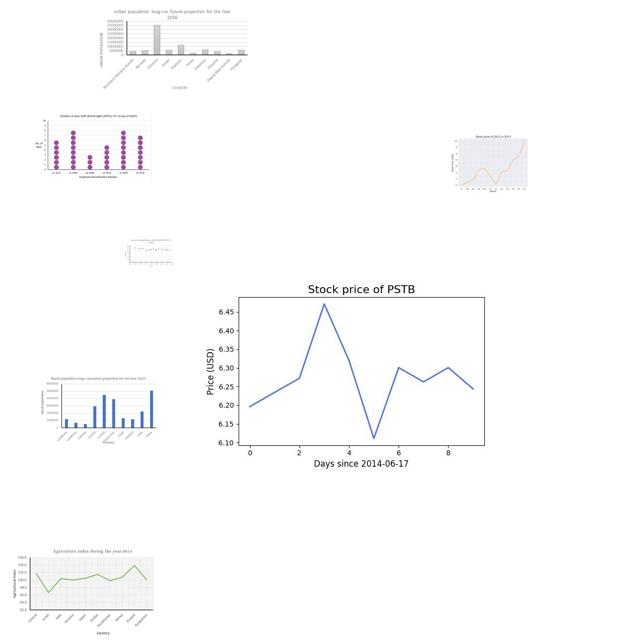Graph: (199, 251, 516, 489), (95, 8, 251, 92), (9, 547, 156, 635), (39, 375, 158, 445), (32, 113, 152, 180), (446, 131, 538, 194), (123, 238, 175, 268)
